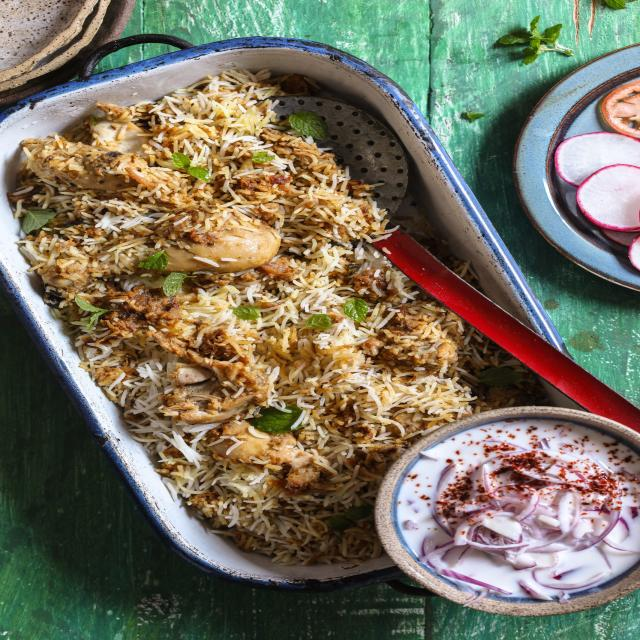chicken biryani: (6, 129, 426, 402)
